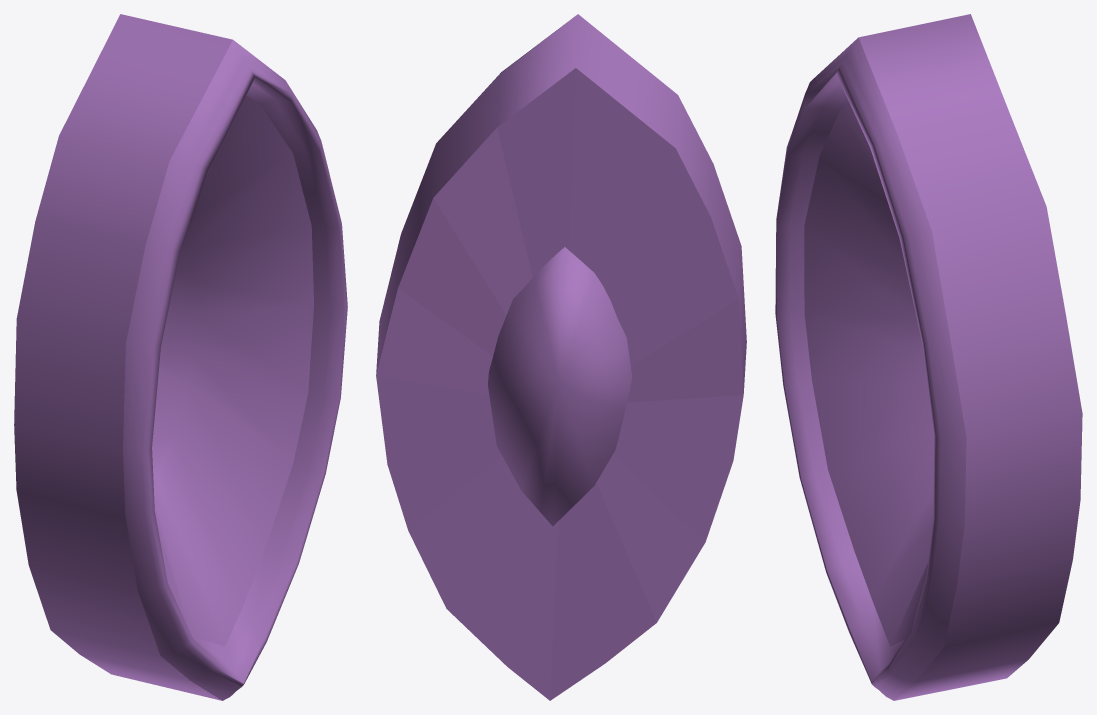
File: TR2_8shapes_Marquise_Classic_Metal.001 2.glb
3 views of the same model, side by side, from view 1: azimuth 30°, elevation 25°; view 2: azimuth 150°, elevation 25°; view 3: azimuth 270°, elevation 25° (orthographic). The views are drawn at different scales.
Parts seen in each view (by area): view 1: TR2_8shapes_Marquise_Classic_Metal.001; view 2: TR2_8shapes_Marquise_Classic_Metal.001; view 3: TR2_8shapes_Marquise_Classic_Metal.001.
Boxes of the visible parts, left/top/right/bottom form: TR2_8shapes_Marquise_Classic_Metal.001: left=14, top=14, right=347, bottom=700; TR2_8shapes_Marquise_Classic_Metal.001: left=376, top=14, right=746, bottom=700; TR2_8shapes_Marquise_Classic_Metal.001: left=775, top=14, right=1082, bottom=700.
Bounding box in the file's own units: 0.4339 × 0.7826 × 0.3287.
